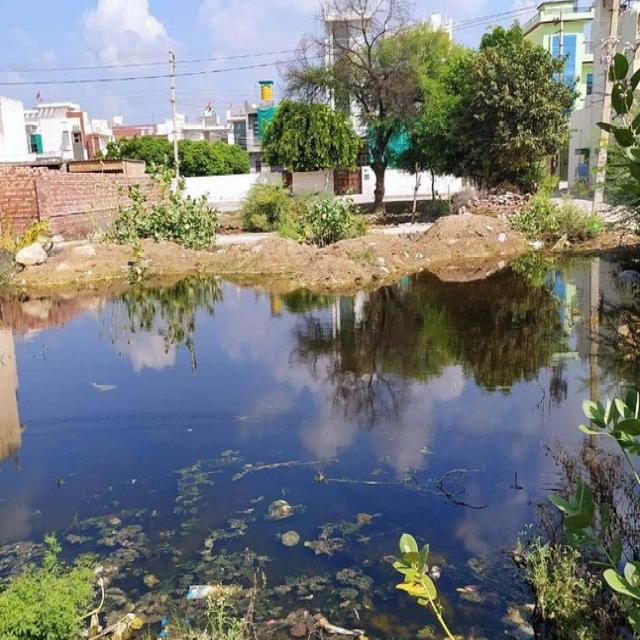Breeding Place: (0, 279, 640, 640)
